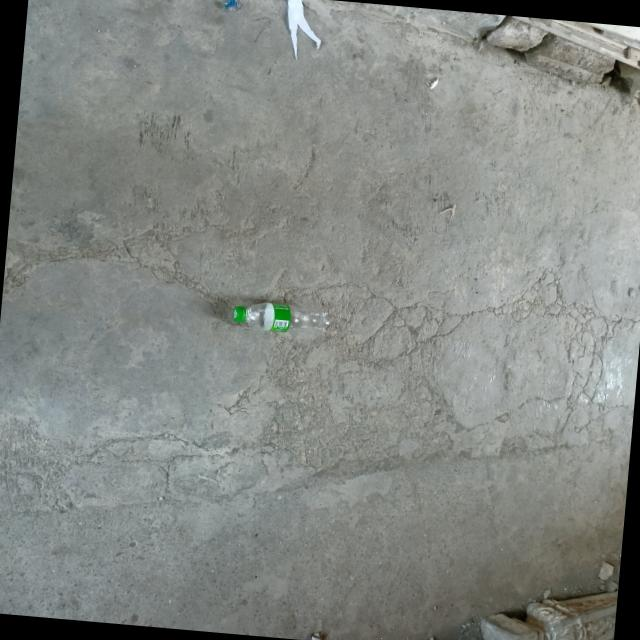Bottle: (231, 301, 328, 335)
